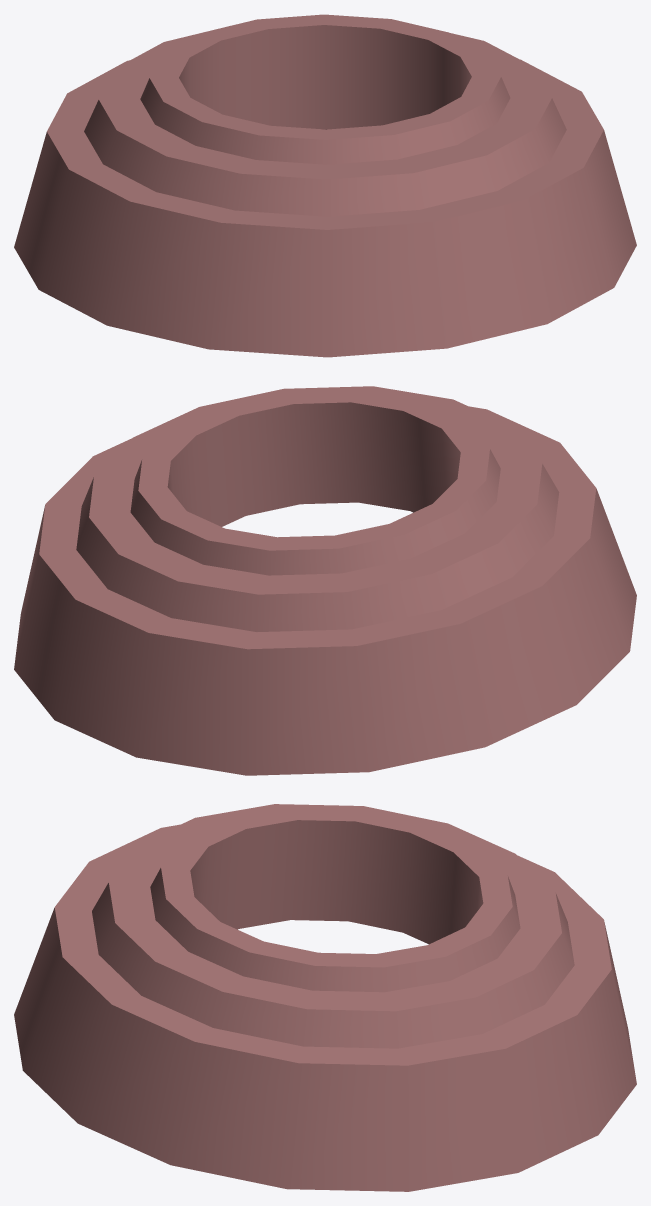
Rendered from soporte.fbx.
The picture shows the model from 3 angles, top to bottom: view 1: azimuth 30°, elevation 25°; view 2: azimuth 150°, elevation 25°; view 3: azimuth 270°, elevation 25°; orthographic projection.
Visible parts, largest first — view 1: Soporte; view 2: Soporte; view 3: Soporte.
Boxes of the visible parts, bbox=[...] form: Soporte: bbox=[14, 14, 636, 357]; Soporte: bbox=[14, 386, 636, 775]; Soporte: bbox=[14, 804, 636, 1191].
Size of the model in its own units: 13.6 by 4.74 by 13.58.
